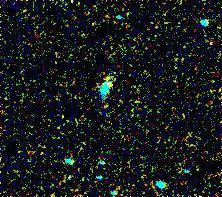star: (94, 71, 124, 101)
